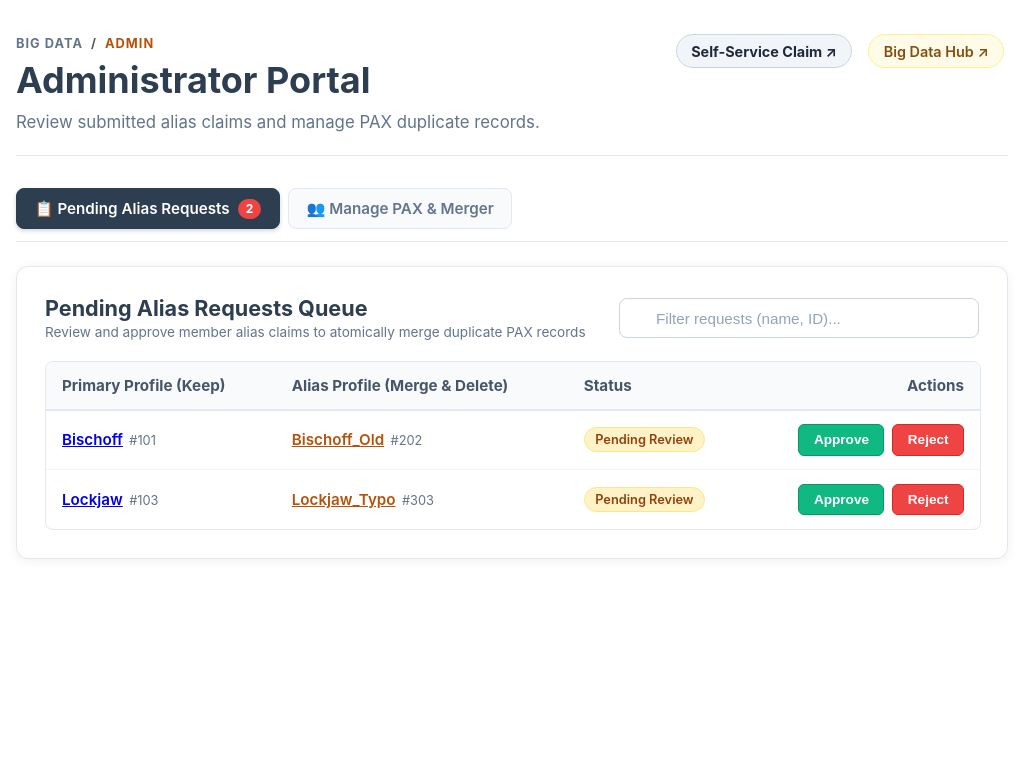
Admin Portal Components › AdminAliasRequests Component › renders pending requests and approves a request
This screenshot has width=1024, height=768.
Check: the link "Bischoff_Old" is shown, box [292,430,384,449]
Check: the link "Lockjaw_Typo" is shown, box [292,490,396,509]
# Click Approve for first item
Click the button "Approve" in the row of "101". click: (841, 440)
box: [798,424,884,456]
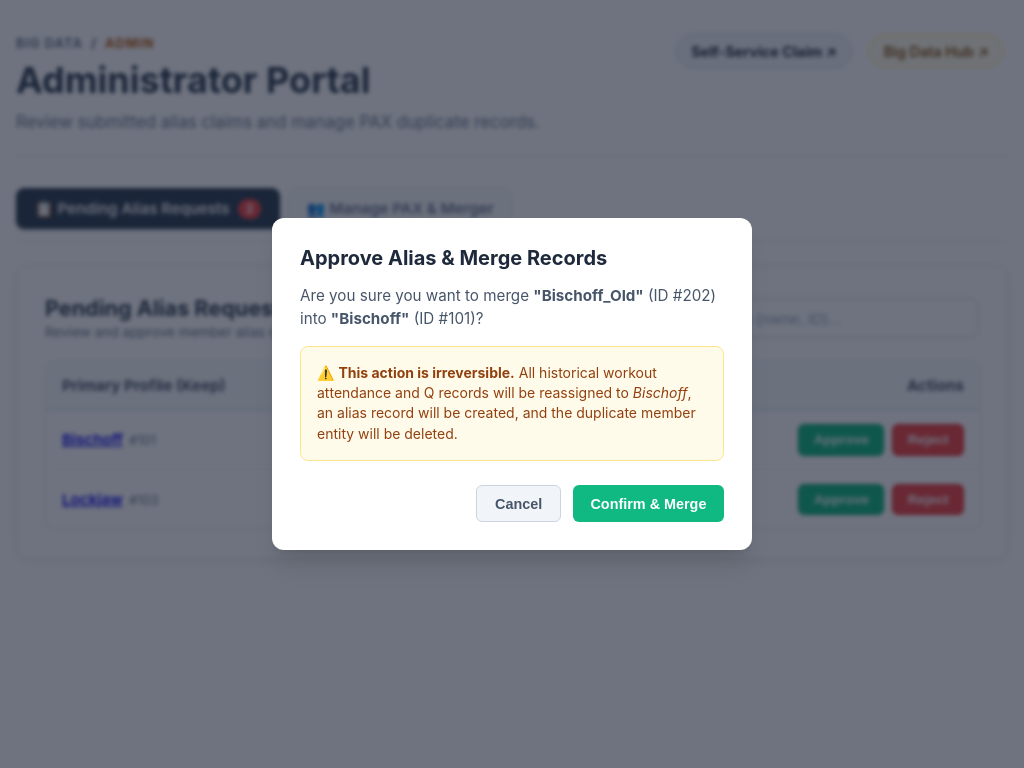
Check: the heading "Approve Alias & Merge Records" is shown, box [300,246,607,270]
Check: the text "This action is irreversible." is shown, box [338,364,515,381]
# Confirm merge
Click the button "Confirm & Merge". click: (648, 504)
box: [573,485,724,522]
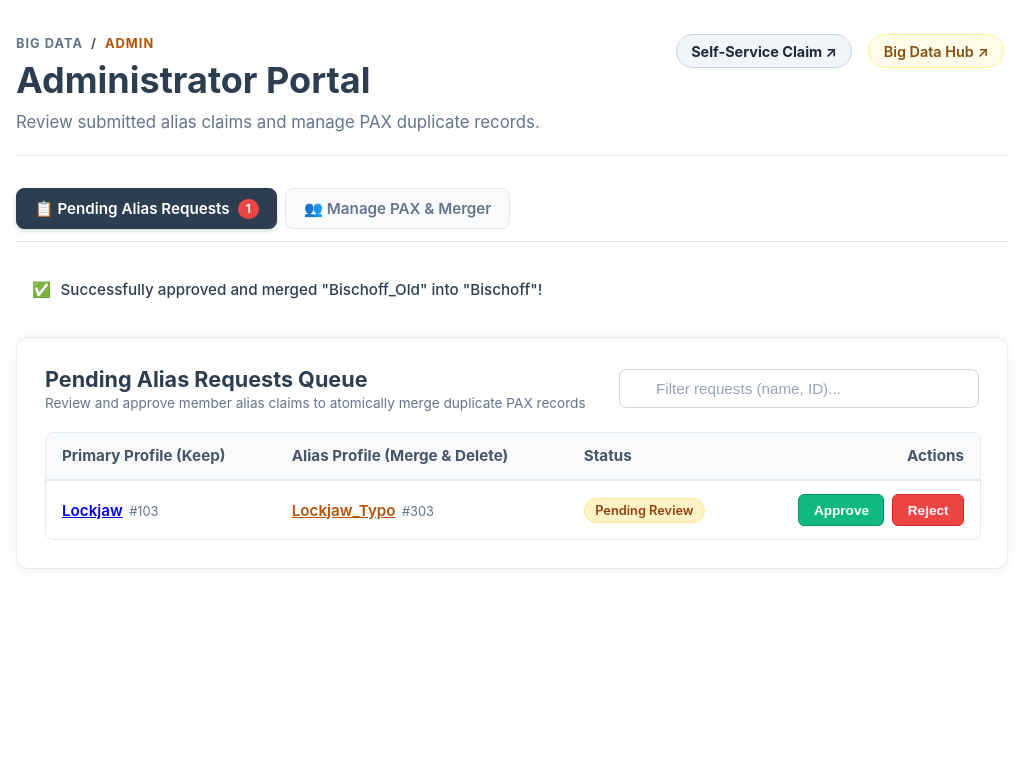
Check: the text "Successfully approved and merged \"Bischoff_Old\" into \"Bischoff\"!" is shown, box [61,280,542,299]
